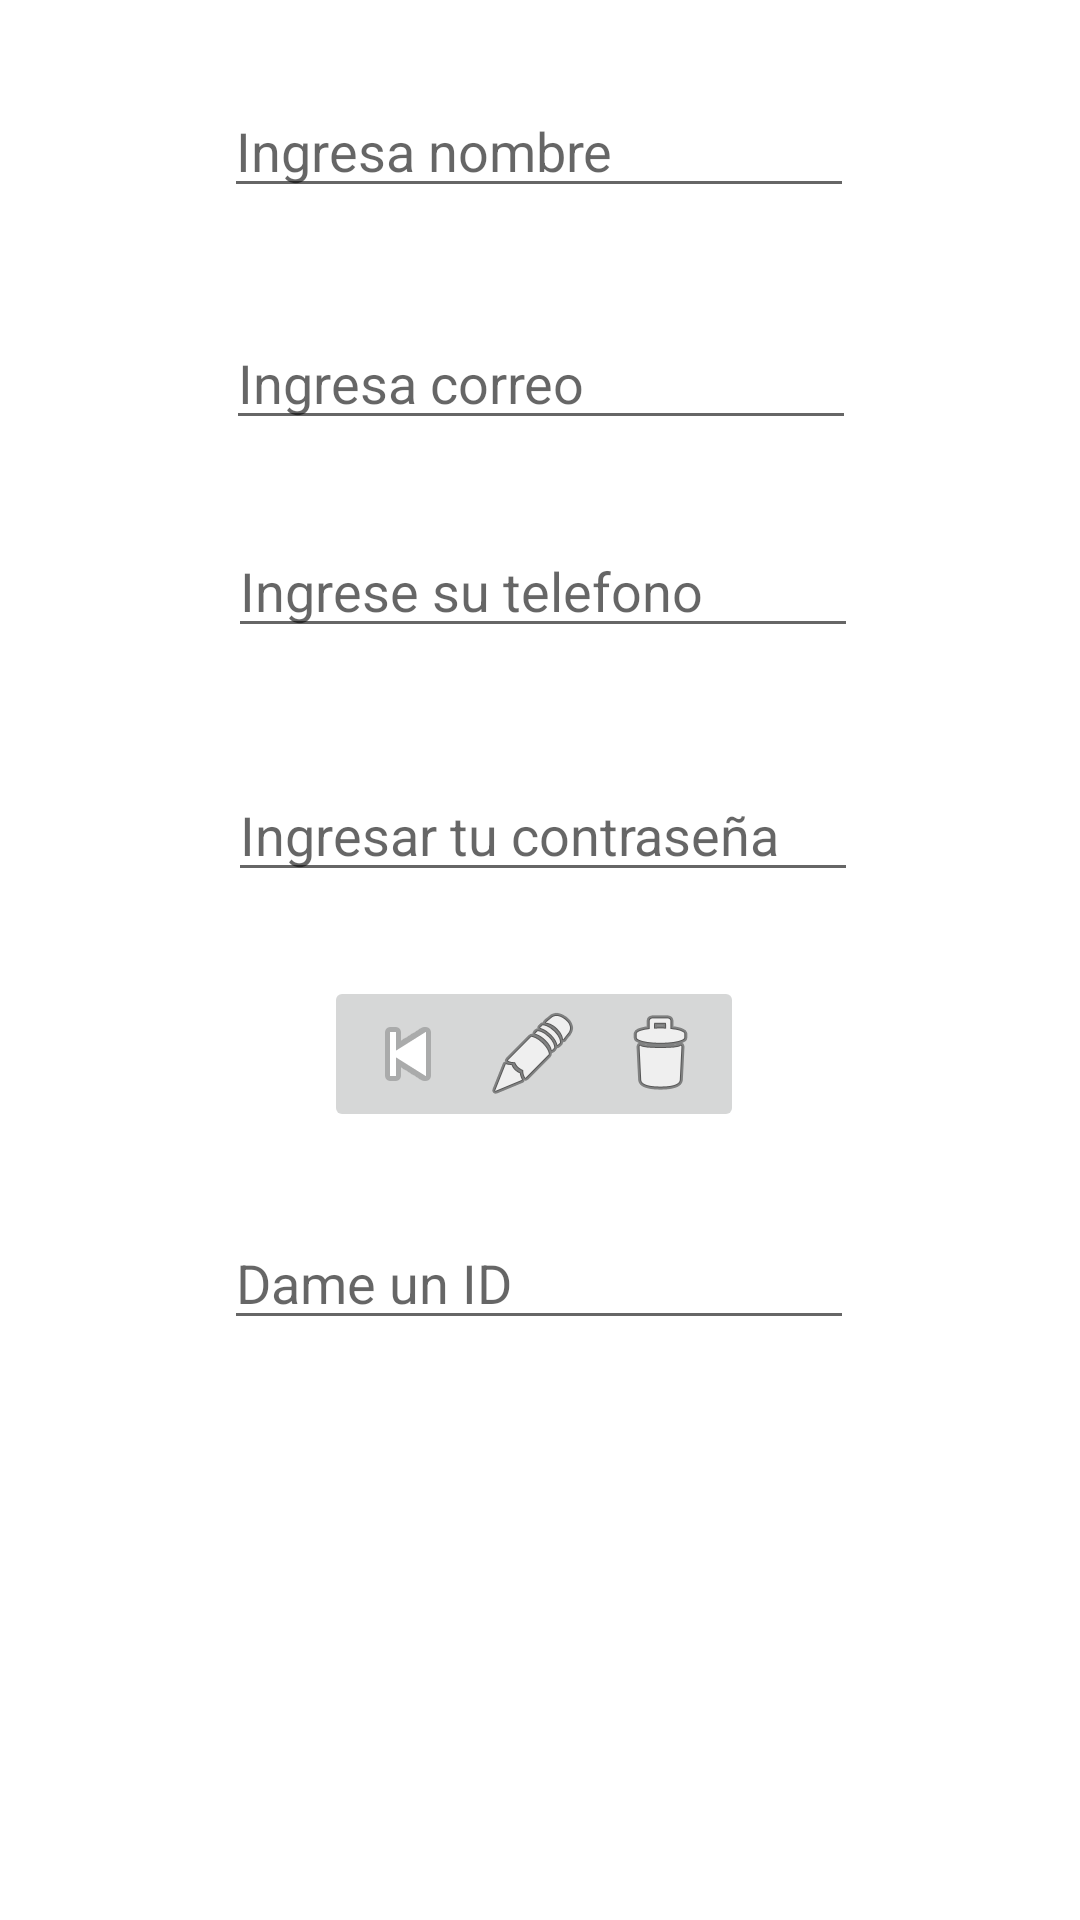

Locate icon controls on the screen. Image size 1080w x 1920h, boxes as {"x1": x1, "y1": y1, "x2": x2, "y2": y2}.
delete: {"x1": 576, "y1": 994, "x2": 732, "y2": 1114}
edit: {"x1": 449, "y1": 994, "x2": 617, "y2": 1114}
previous: {"x1": 336, "y1": 994, "x2": 492, "y2": 1114}
